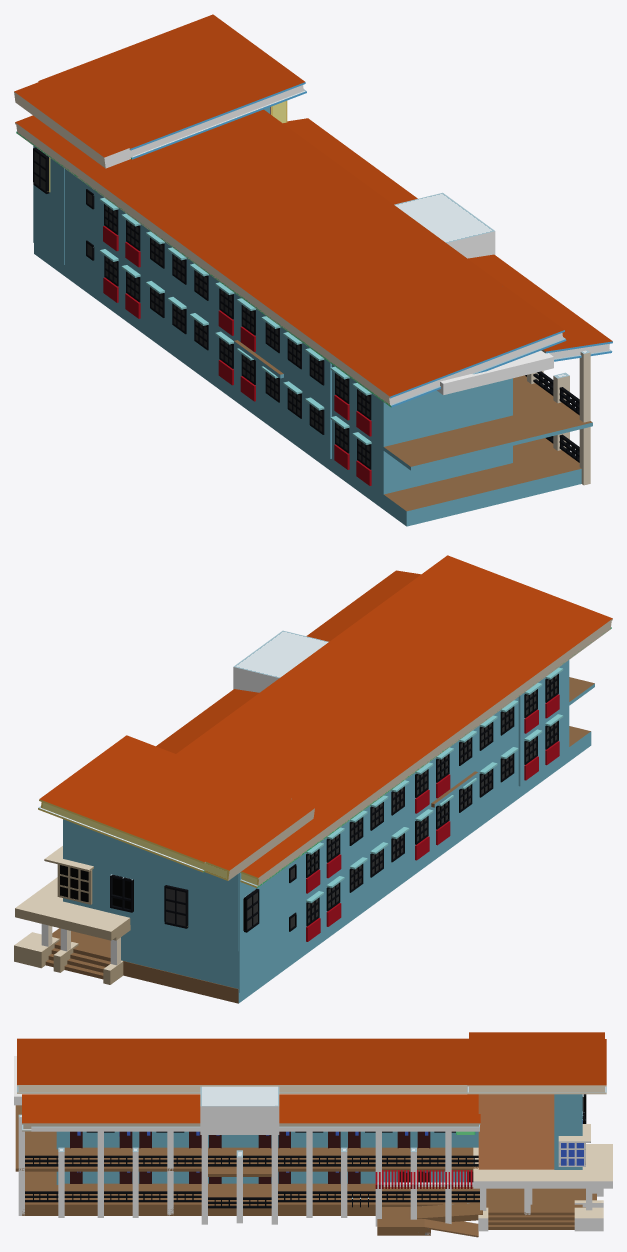
The model's file is COT 1.glb.
The picture shows the model from 3 angles, top to bottom: view 1: azimuth 30°, elevation 25°; view 2: azimuth 150°, elevation 25°; view 3: azimuth 270°, elevation 25°; orthographic projection. The views are drawn at different scales.
Parts seen in each view (by area): view 1: cube.1397; view 2: cube.1397; view 3: cube.1397.
Part boxes in pixels (<box>): cube.1397: <box>14,14,612,526</box>; cube.1397: <box>14,555,612,1003</box>; cube.1397: <box>14,1032,612,1237</box>.
Bounding box in the file's own units: 8.81 × 5.98 × 23.69.
14 materials, 14 textured.
